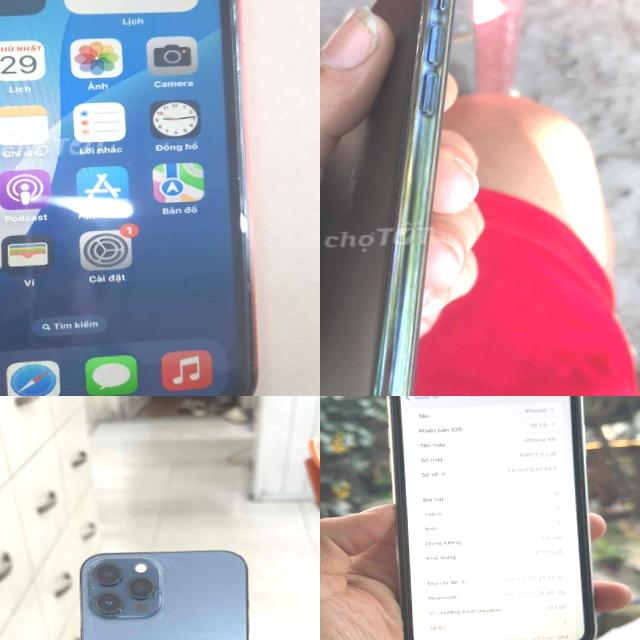gen_11: (320, 0, 481, 396)
gen_12_13: (70, 539, 264, 640)
gen_x_xs: (0, 0, 289, 396), (388, 396, 595, 640)
physical_damage: (82, 548, 185, 634)
scratch: (402, 0, 454, 198), (240, 348, 270, 378)
